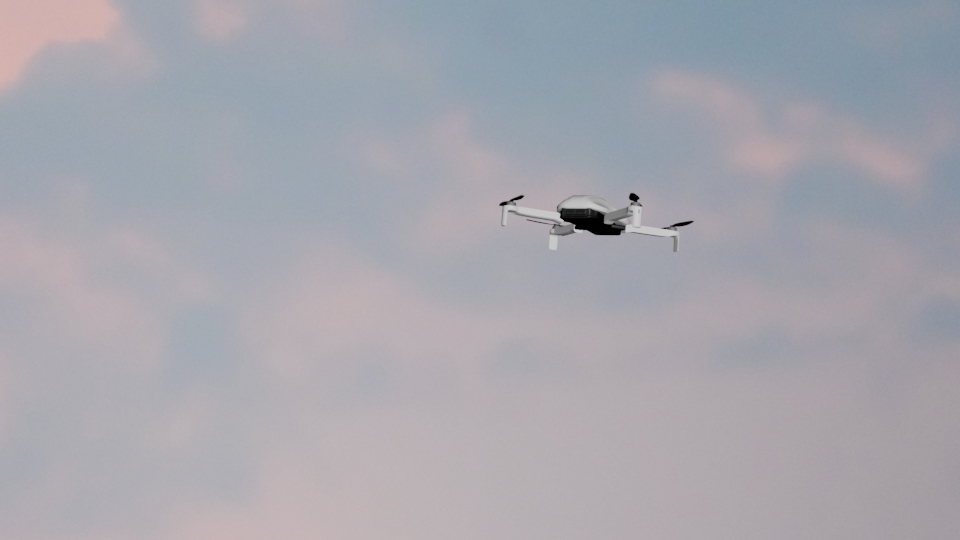drone: (497, 190, 693, 254)
